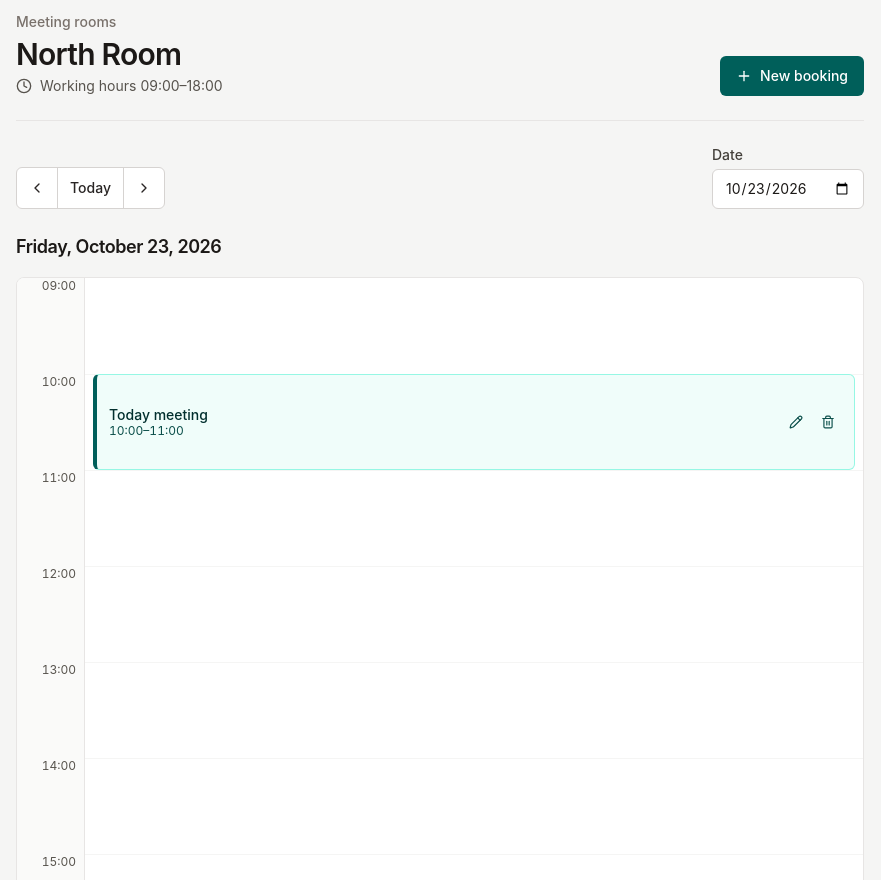
Scenario: BookingDashboard › moves between days and can return to today
The image size is (881, 880).
Expected: the text "Today meeting" is shown, 109,406 -> 208,423
Step 1. Click the button named "Previous day" → (37, 188), box 17,168 -> 57,208
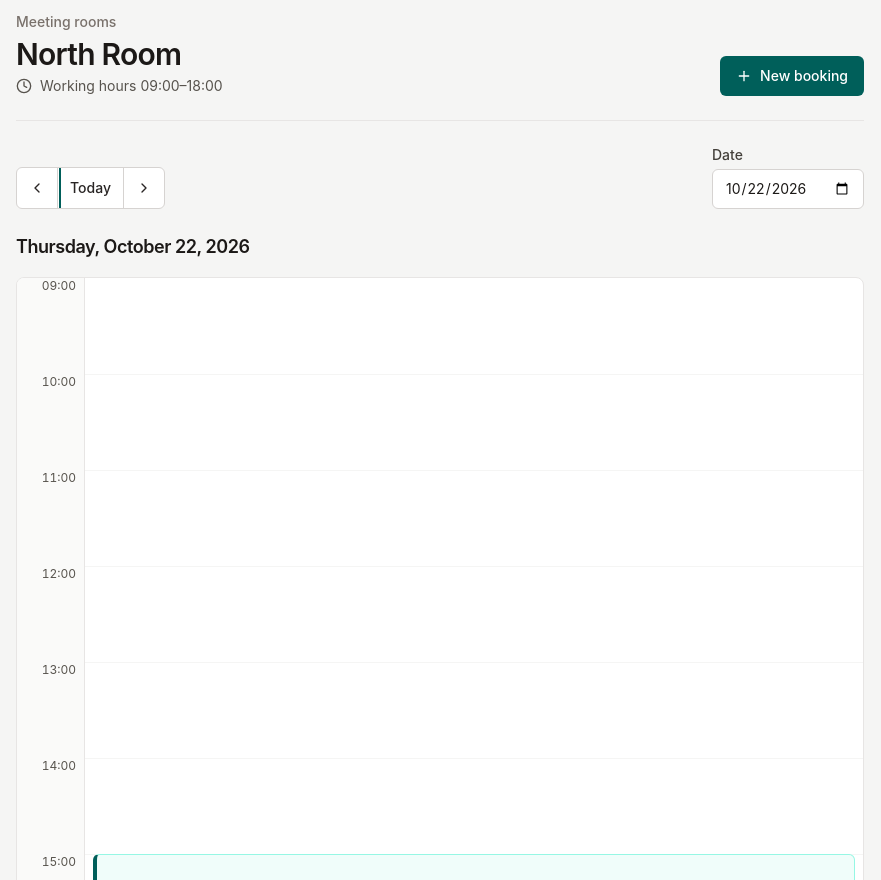
Result: the text "Today meeting" is gone
Step 2. Click the button named "Next day" → (144, 188), box 124,168 -> 164,208
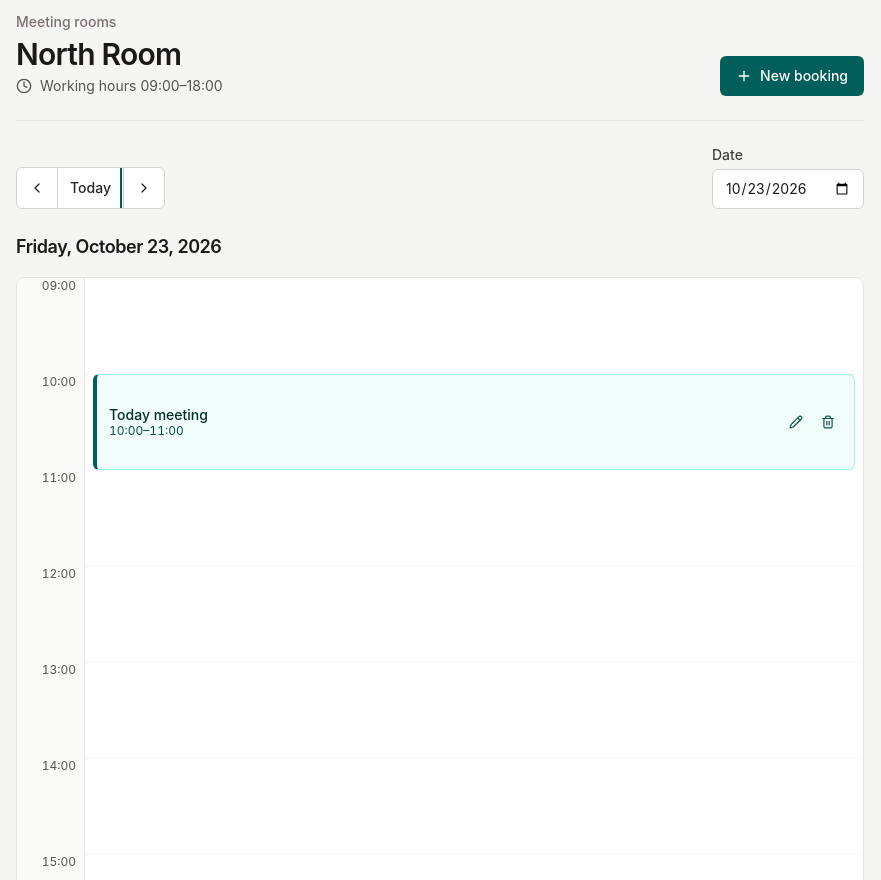
Result: the text "Today meeting" is shown at 109,406 -> 208,423
Step 3. Click the button named "Next day" → (144, 188), box 124,168 -> 164,208
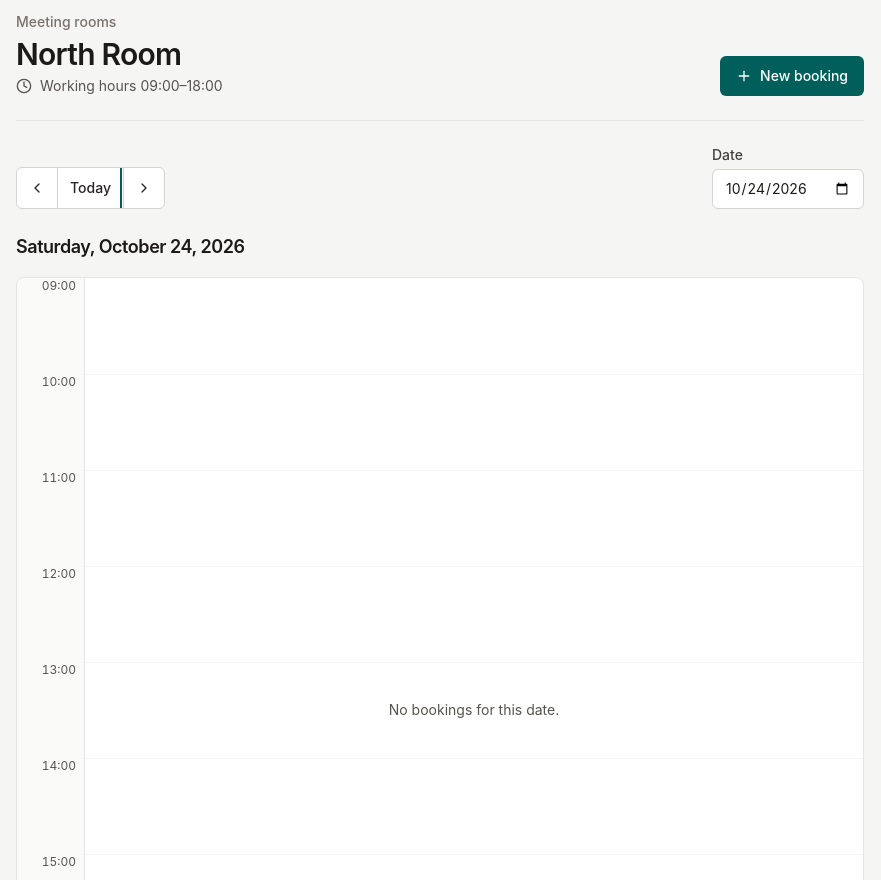
Result: the text "No bookings for this date." is shown at 389,701 -> 559,718
Step 4. Click the button "Today" → (90, 188), box 57,168 -> 124,208
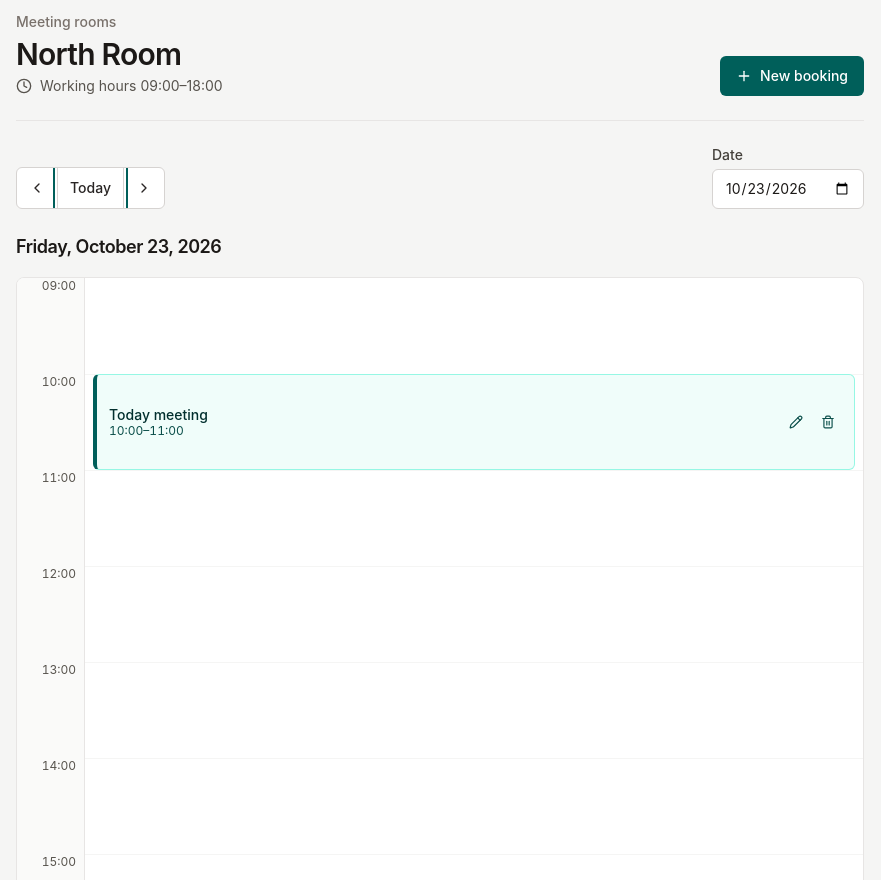
Result: the text "Today meeting" is shown at 109,406 -> 208,423
